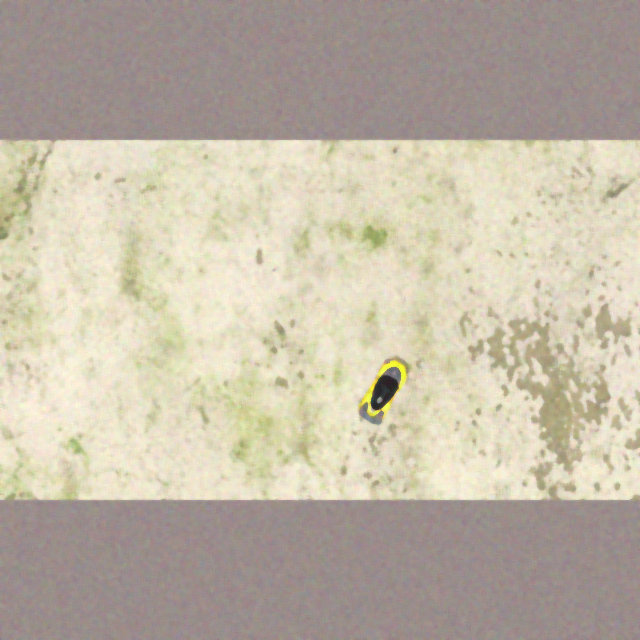car: (353, 353, 415, 428)
